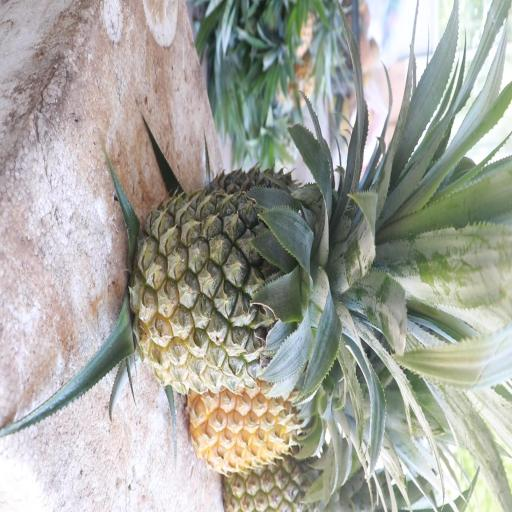------------------------------: (136, 184, 354, 395)
Pineapple - v8 v1: (190, 363, 311, 471)
